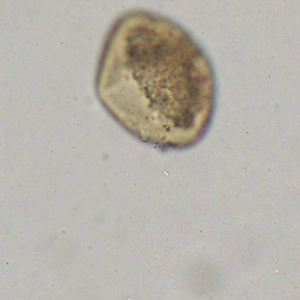Fasciola_hepatica_egg: (92, 11, 217, 151)
